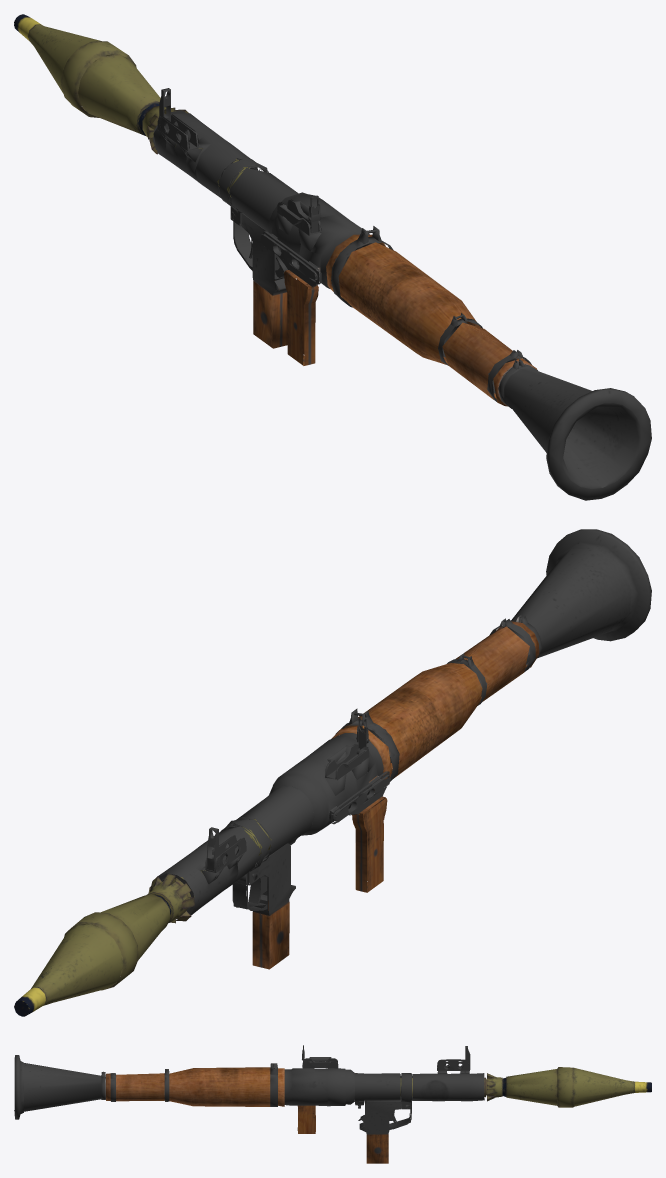
Rendered from rpg7.glb.
3 views of the same model, one above another, from view 1: azimuth 30°, elevation 25°; view 2: azimuth 150°, elevation 25°; view 3: azimuth 270°, elevation 25° (orthographic). The views are drawn at different scales.
Visible parts, largest first — view 1: Base Mira Trasera_high_VR_DefaultMaterial_0; view 2: Base Mira Trasera_high_VR_DefaultMaterial_0; view 3: Base Mira Trasera_high_VR_DefaultMaterial_0.
Part boxes in pixels (bbox=[...]): Base Mira Trasera_high_VR_DefaultMaterial_0: bbox=[14, 14, 651, 500]; Base Mira Trasera_high_VR_DefaultMaterial_0: bbox=[14, 529, 651, 1016]; Base Mira Trasera_high_VR_DefaultMaterial_0: bbox=[14, 1045, 651, 1163].
Size of the model in its own units: 0.1321 by 0.2448 by 1.3.
Materials: 1 (1 with a texture image).
